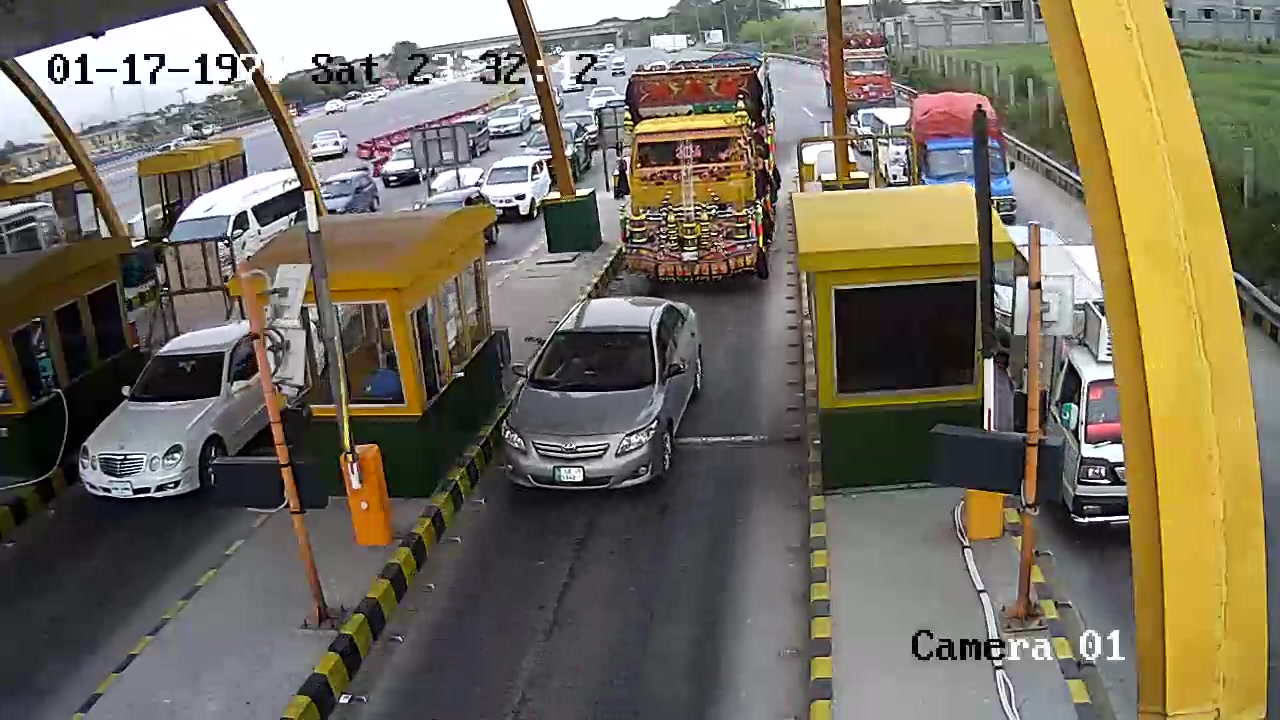F1: (497, 298, 733, 508)
